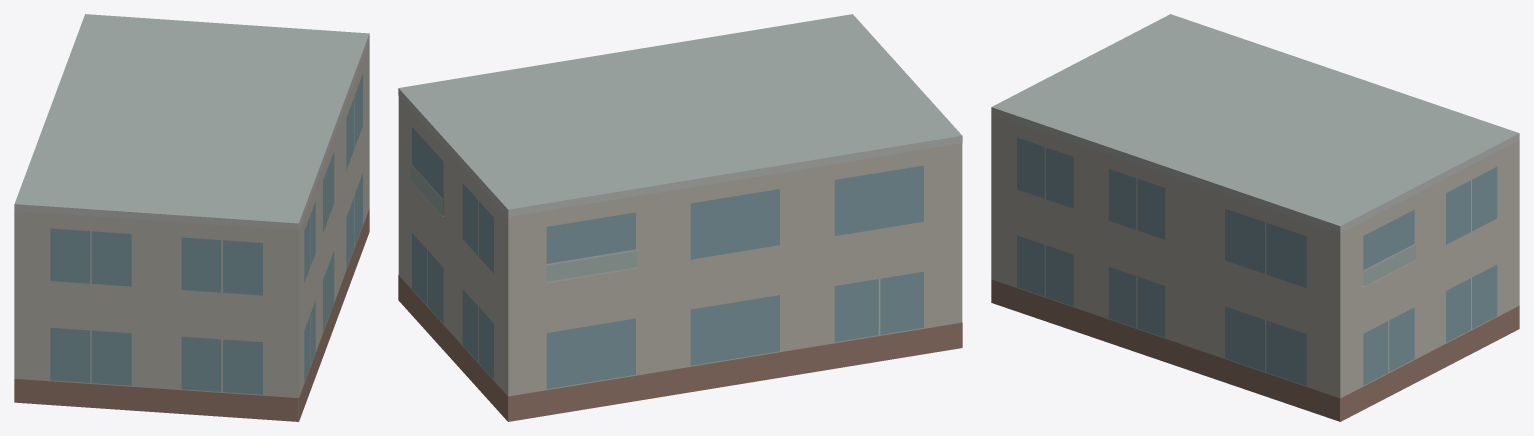
Rendered from survey-upis-32633440.glb.
The picture shows the model from 3 angles, left to right: view 1: azimuth 30°, elevation 25°; view 2: azimuth 150°, elevation 25°; view 3: azimuth 270°, elevation 25°; orthographic projection. The views are drawn at different scales.
Parts seen in each view (by area): view 1: survey-upis-32633440.tmp; view 2: survey-upis-32633440.tmp; view 3: survey-upis-32633440.tmp.
Part boxes in pixels (x1,y1,x2,y2): survey-upis-32633440.tmp: [14, 14, 369, 421]; survey-upis-32633440.tmp: [398, 14, 962, 421]; survey-upis-32633440.tmp: [991, 14, 1519, 421].
Size of the model in its own units: 16.06 by 6.9 by 16.9.
